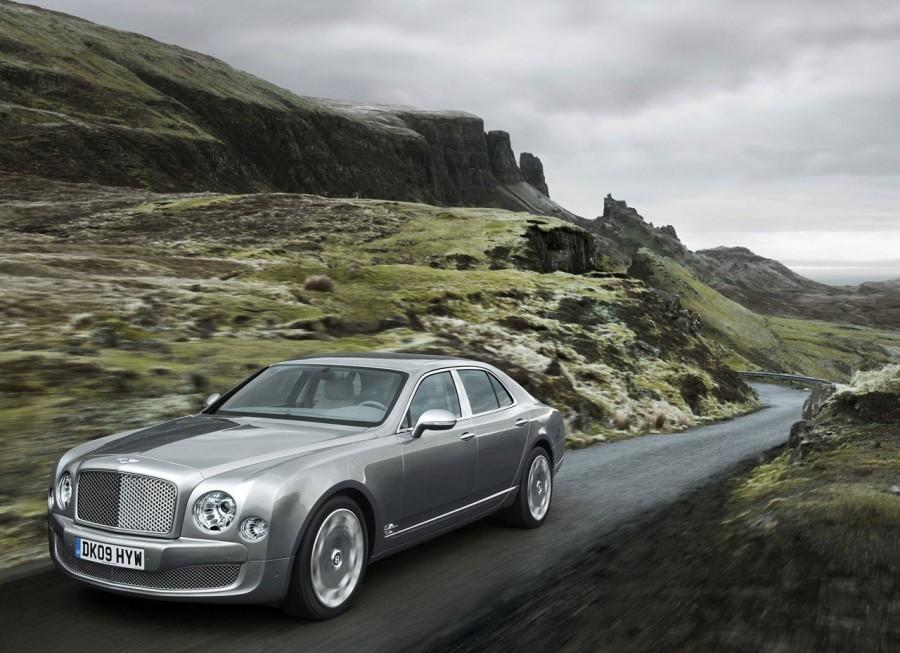car: (33, 346, 579, 625)
